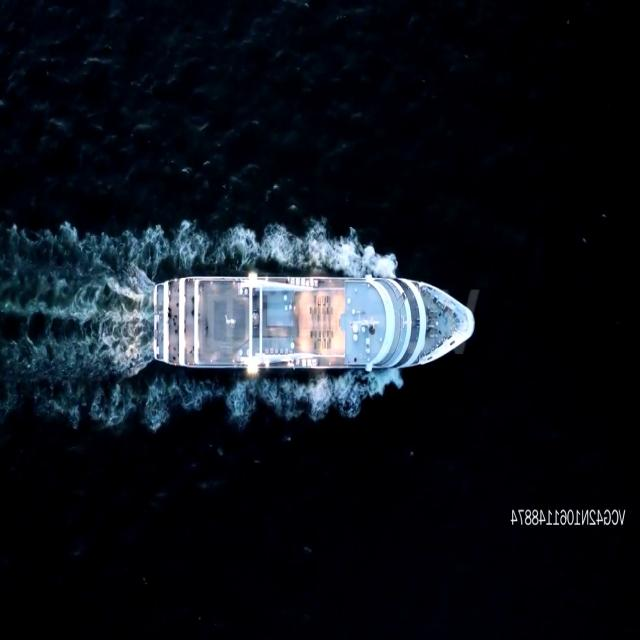passenger ship: (155, 270, 478, 375)
